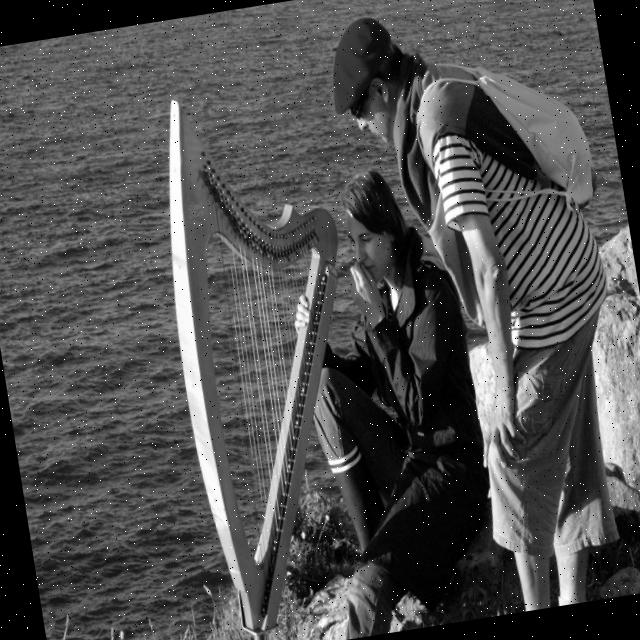harp: (138, 73, 401, 640)
